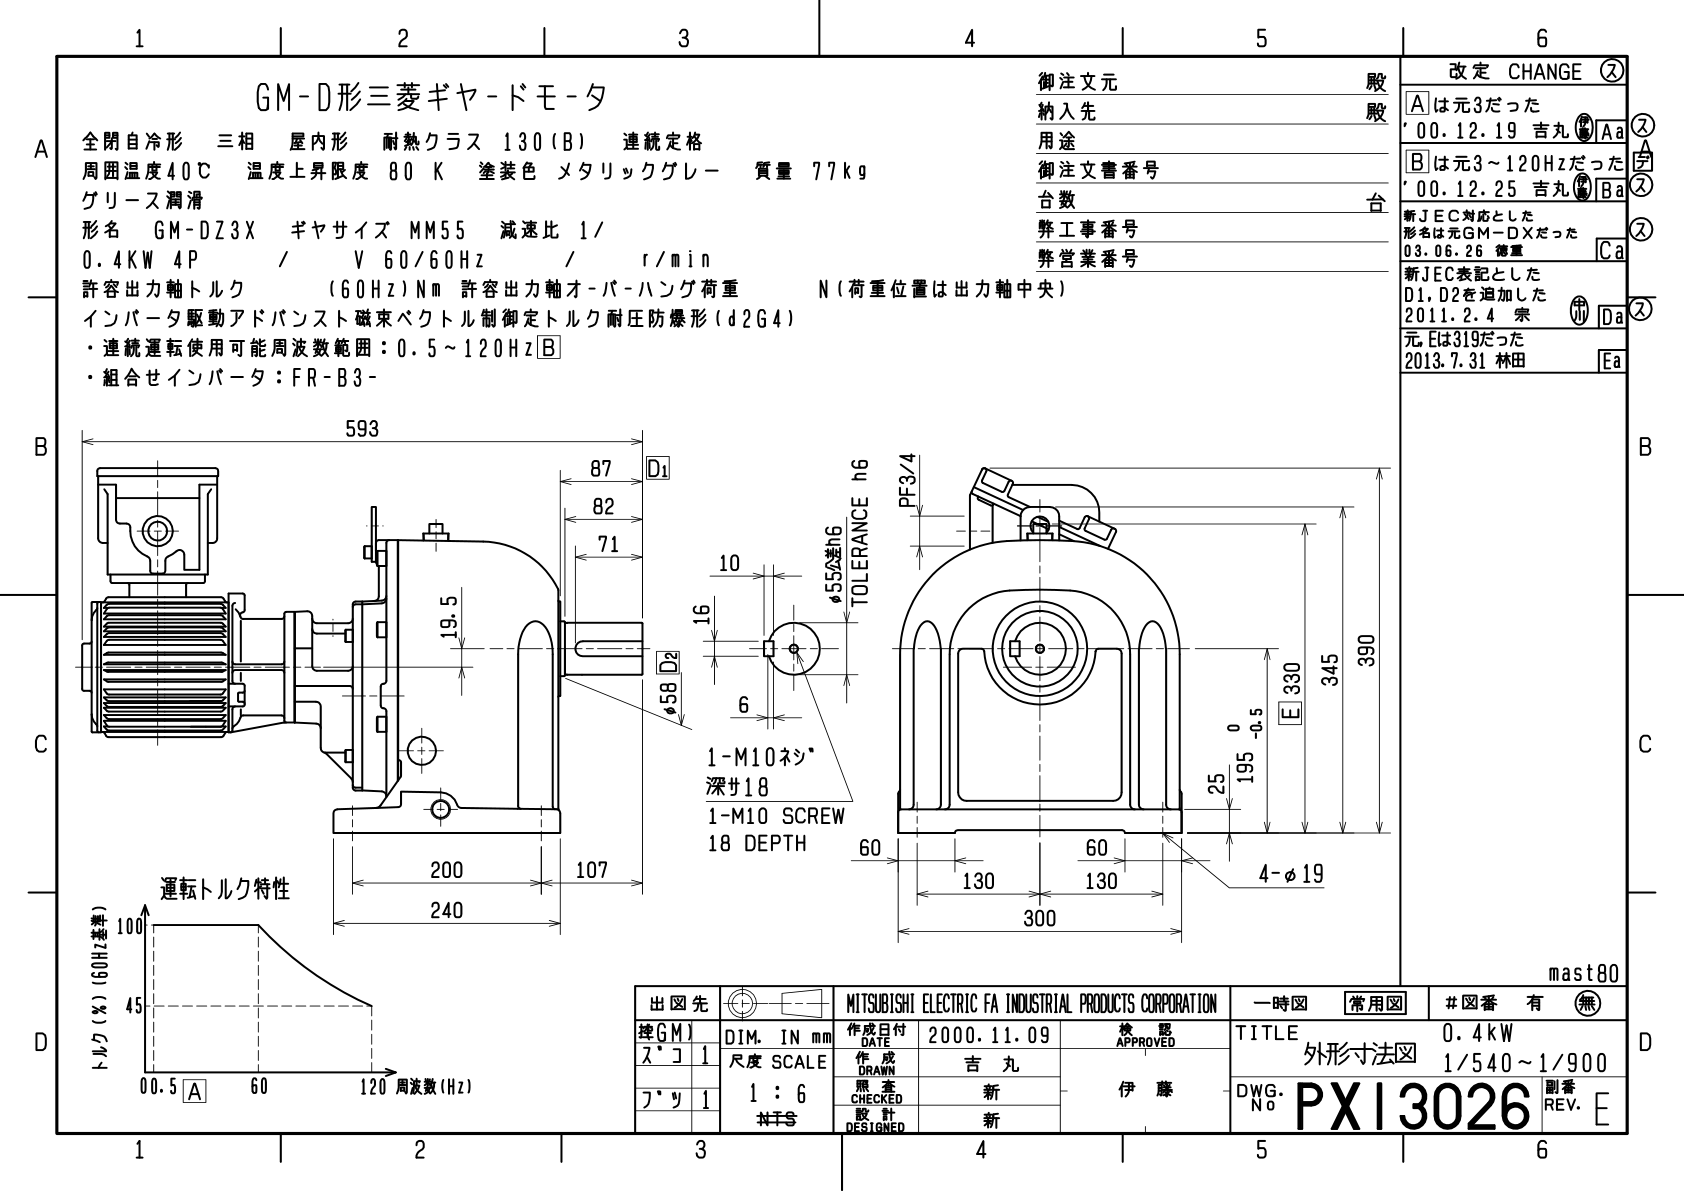GM_D_制御屋内_三相_脚: (10, 6, 1684, 1191)
